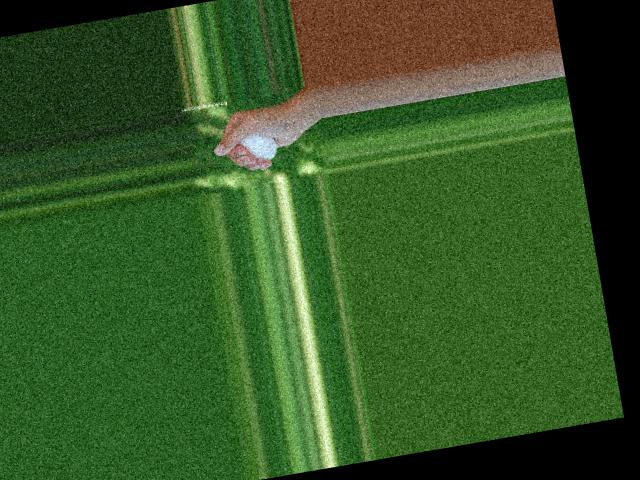egg: (237, 132, 278, 164)
